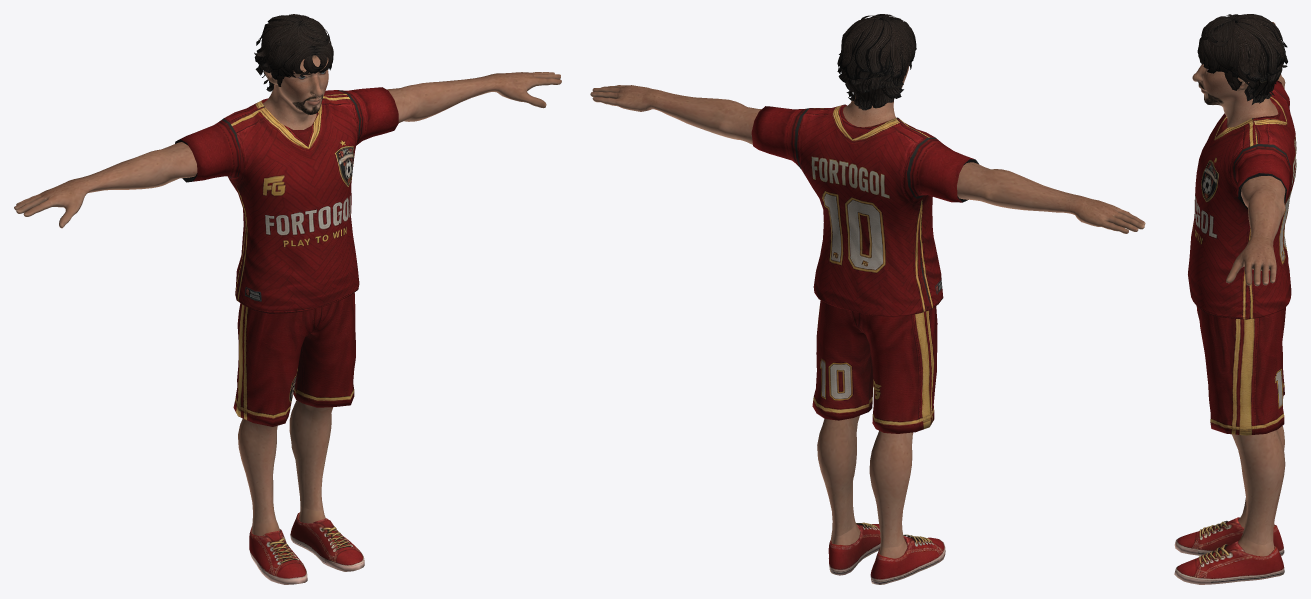
3 views of the same model, side by side, from view 1: azimuth 30°, elevation 25°; view 2: azimuth 150°, elevation 25°; view 3: azimuth 270°, elevation 25° (orthographic).
Parts seen in each view (by area): view 1: Lonaldo; view 2: Lonaldo; view 3: Lonaldo.
Boxes of the visible parts, x1,y1,x2,y2 form: Lonaldo: (14, 14, 561, 584); Lonaldo: (590, 14, 1145, 584); Lonaldo: (1174, 14, 1296, 584).
Bounding box in the file's own units: 194 × 183 × 37.29.
1 material, 1 textured.
